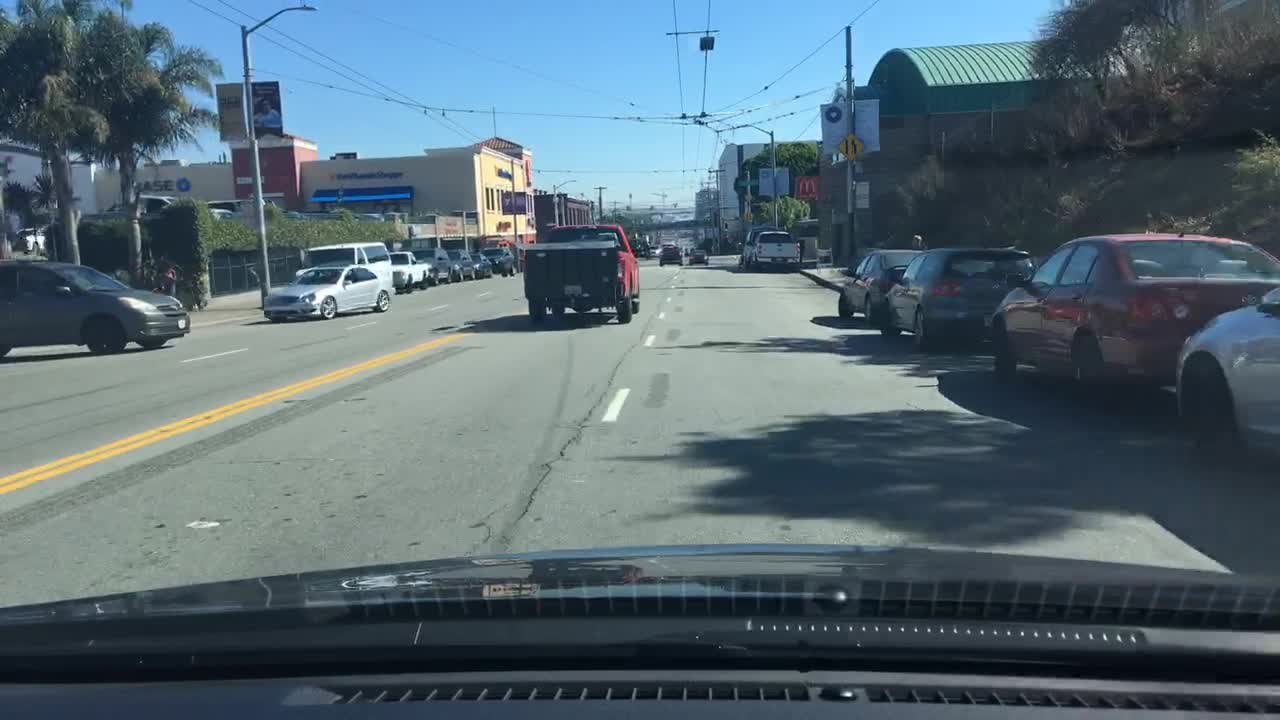car: (989, 233, 1277, 411), (1175, 278, 1277, 476), (0, 259, 189, 354), (877, 248, 1035, 347), (836, 248, 925, 333), (263, 265, 387, 317), (303, 242, 393, 298), (102, 191, 173, 218), (203, 196, 279, 220), (415, 248, 453, 286), (11, 218, 48, 254), (480, 239, 516, 275), (740, 227, 773, 266), (445, 247, 475, 281), (201, 208, 237, 223), (466, 253, 490, 275), (658, 242, 680, 266), (627, 236, 649, 259), (688, 248, 709, 266), (646, 242, 664, 256), (679, 244, 695, 253)
person: (155, 260, 176, 296), (167, 262, 182, 299), (910, 235, 925, 251)
traffic sign: (820, 101, 877, 152), (835, 131, 866, 161), (760, 167, 787, 197), (853, 179, 869, 208), (742, 200, 752, 221)
truck: (520, 224, 640, 323), (748, 230, 802, 269), (390, 251, 432, 290)
